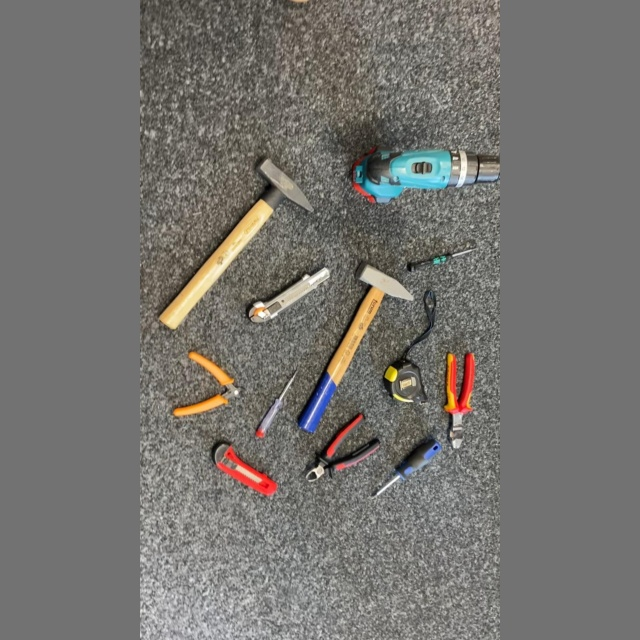drill: (349, 143, 500, 206)
screwdriver: (368, 435, 445, 502), (253, 368, 301, 440), (404, 244, 480, 276)
